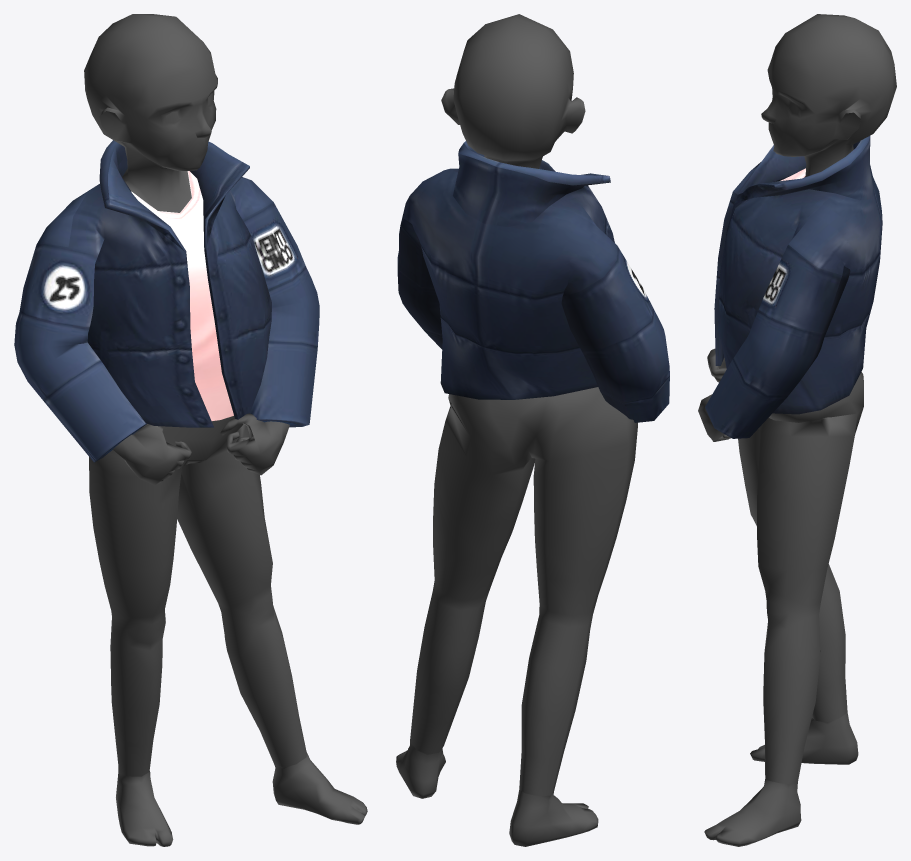
The model's file is jacket25_wearable.glb.
3 views of the same model, side by side, from view 1: azimuth 30°, elevation 25°; view 2: azimuth 150°, elevation 25°; view 3: azimuth 270°, elevation 25° (orthographic). The views are drawn at different scales.
Visible parts, largest first — view 1: jacket25; view 2: jacket25; view 3: jacket25.
Part boxes in pixels (bbox=[...]): jacket25: bbox=[14, 14, 367, 846]; jacket25: bbox=[396, 14, 669, 846]; jacket25: bbox=[698, 14, 896, 846].
Bounding box in the file's own units: 0.7472 × 1.89 × 0.4489.
2 materials, 1 textured.
